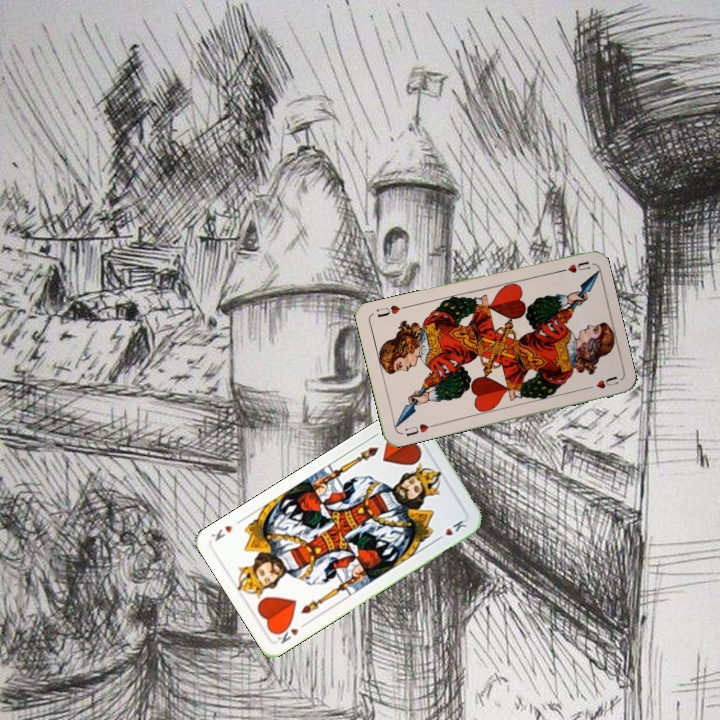HK: (272, 618, 310, 647)
HU: (553, 257, 592, 276), (401, 420, 431, 439)
